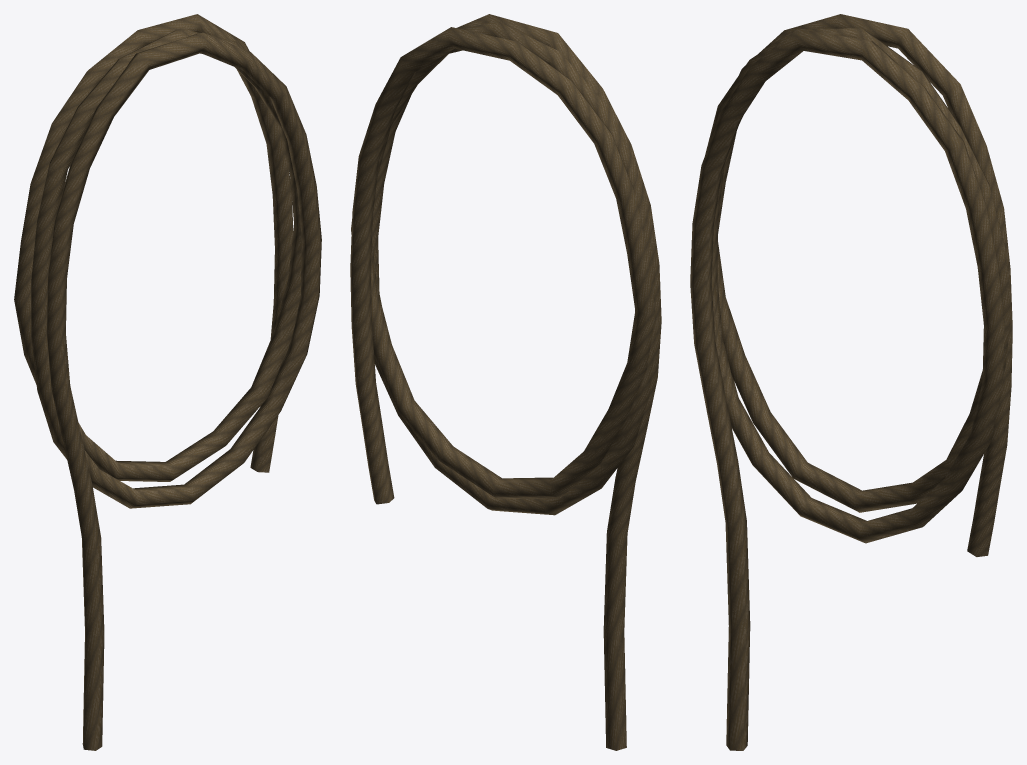
The model's file is SM_Rope_00.fbx.
3 views of the same model, side by side, from view 1: azimuth 30°, elevation 25°; view 2: azimuth 150°, elevation 25°; view 3: azimuth 330°, elevation 25° (orthographic). The views are drawn at different scales.
Parts seen in each view (by area): view 1: SM_Rope_01; view 2: SM_Rope_01; view 3: SM_Rope_01.
Part boxes in pixels (left/top/right/bottom): SM_Rope_01: left=14, top=14, right=321, bottom=750; SM_Rope_01: left=350, top=14, right=661, bottom=750; SM_Rope_01: left=690, top=14, right=1012, bottom=750.
Size of the model in its own units: 42.48 by 93.42 by 9.43.
1 material, 1 textured.
